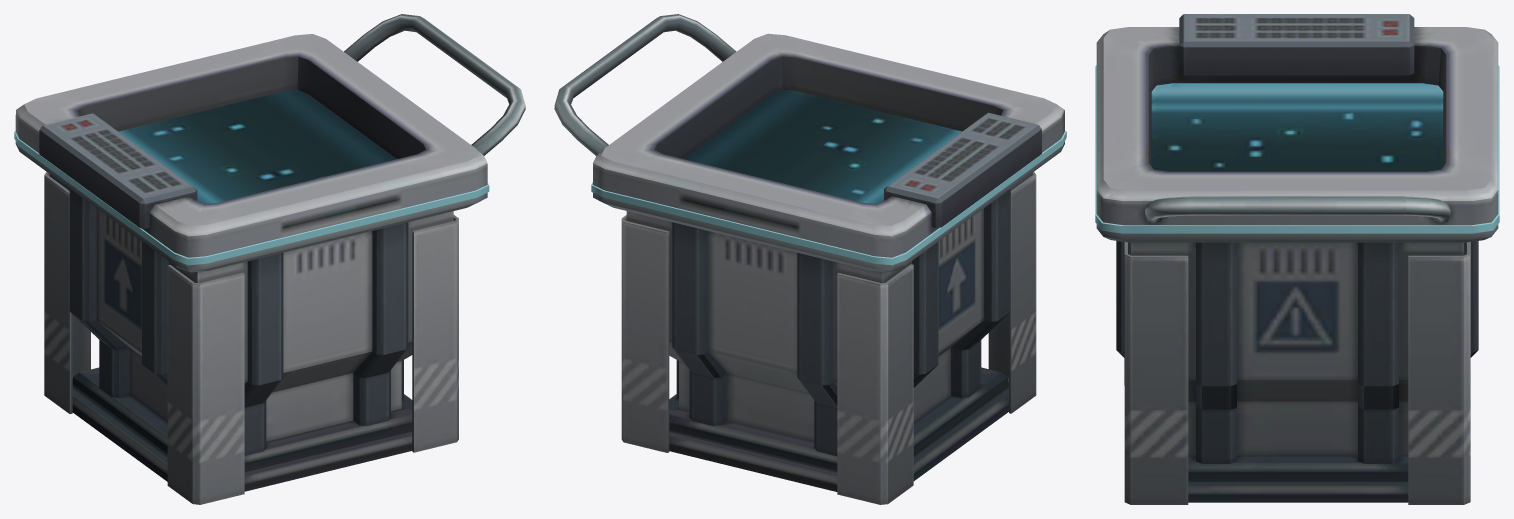
The model's file is furn_sef2022_deco_02.gltf.
3 views of the same model, side by side, from view 1: azimuth 30°, elevation 25°; view 2: azimuth 150°, elevation 25°; view 3: azimuth 270°, elevation 25° (orthographic). The views are drawn at different scales.
Visible parts, largest first — view 1: sef2022_deco_02; view 2: sef2022_deco_02; view 3: sef2022_deco_02.
Boxes of the visible parts, x1,y1,x2,y2 form: sef2022_deco_02: (14,14,525,504); sef2022_deco_02: (554,14,1066,504); sef2022_deco_02: (1095,14,1499,504).
Bounding box in the file's own units: 0.8105 × 0.6309 × 0.6568.
1 material, 1 textured.
